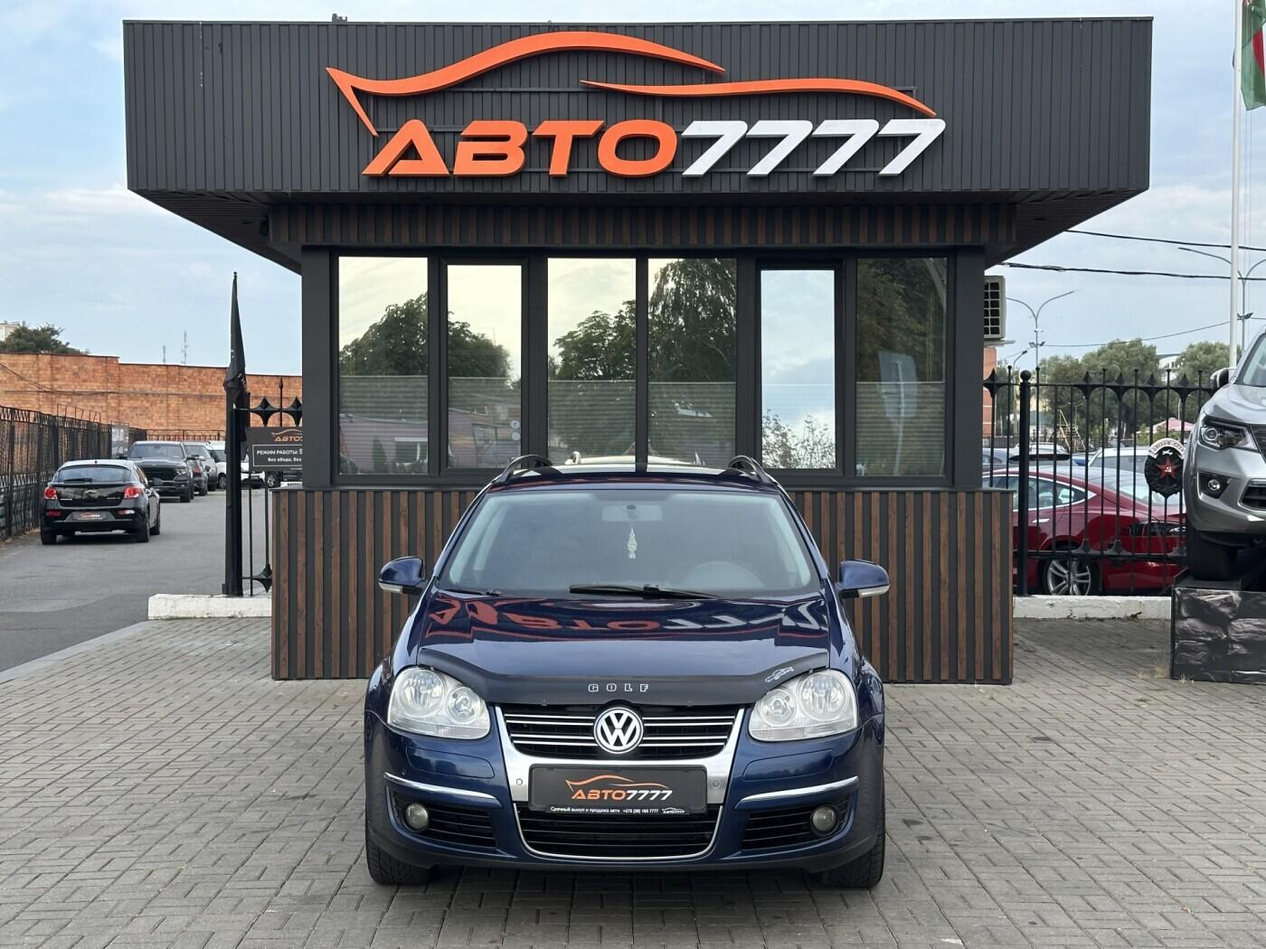Golf_2003-2009: (364, 454, 911, 892)
